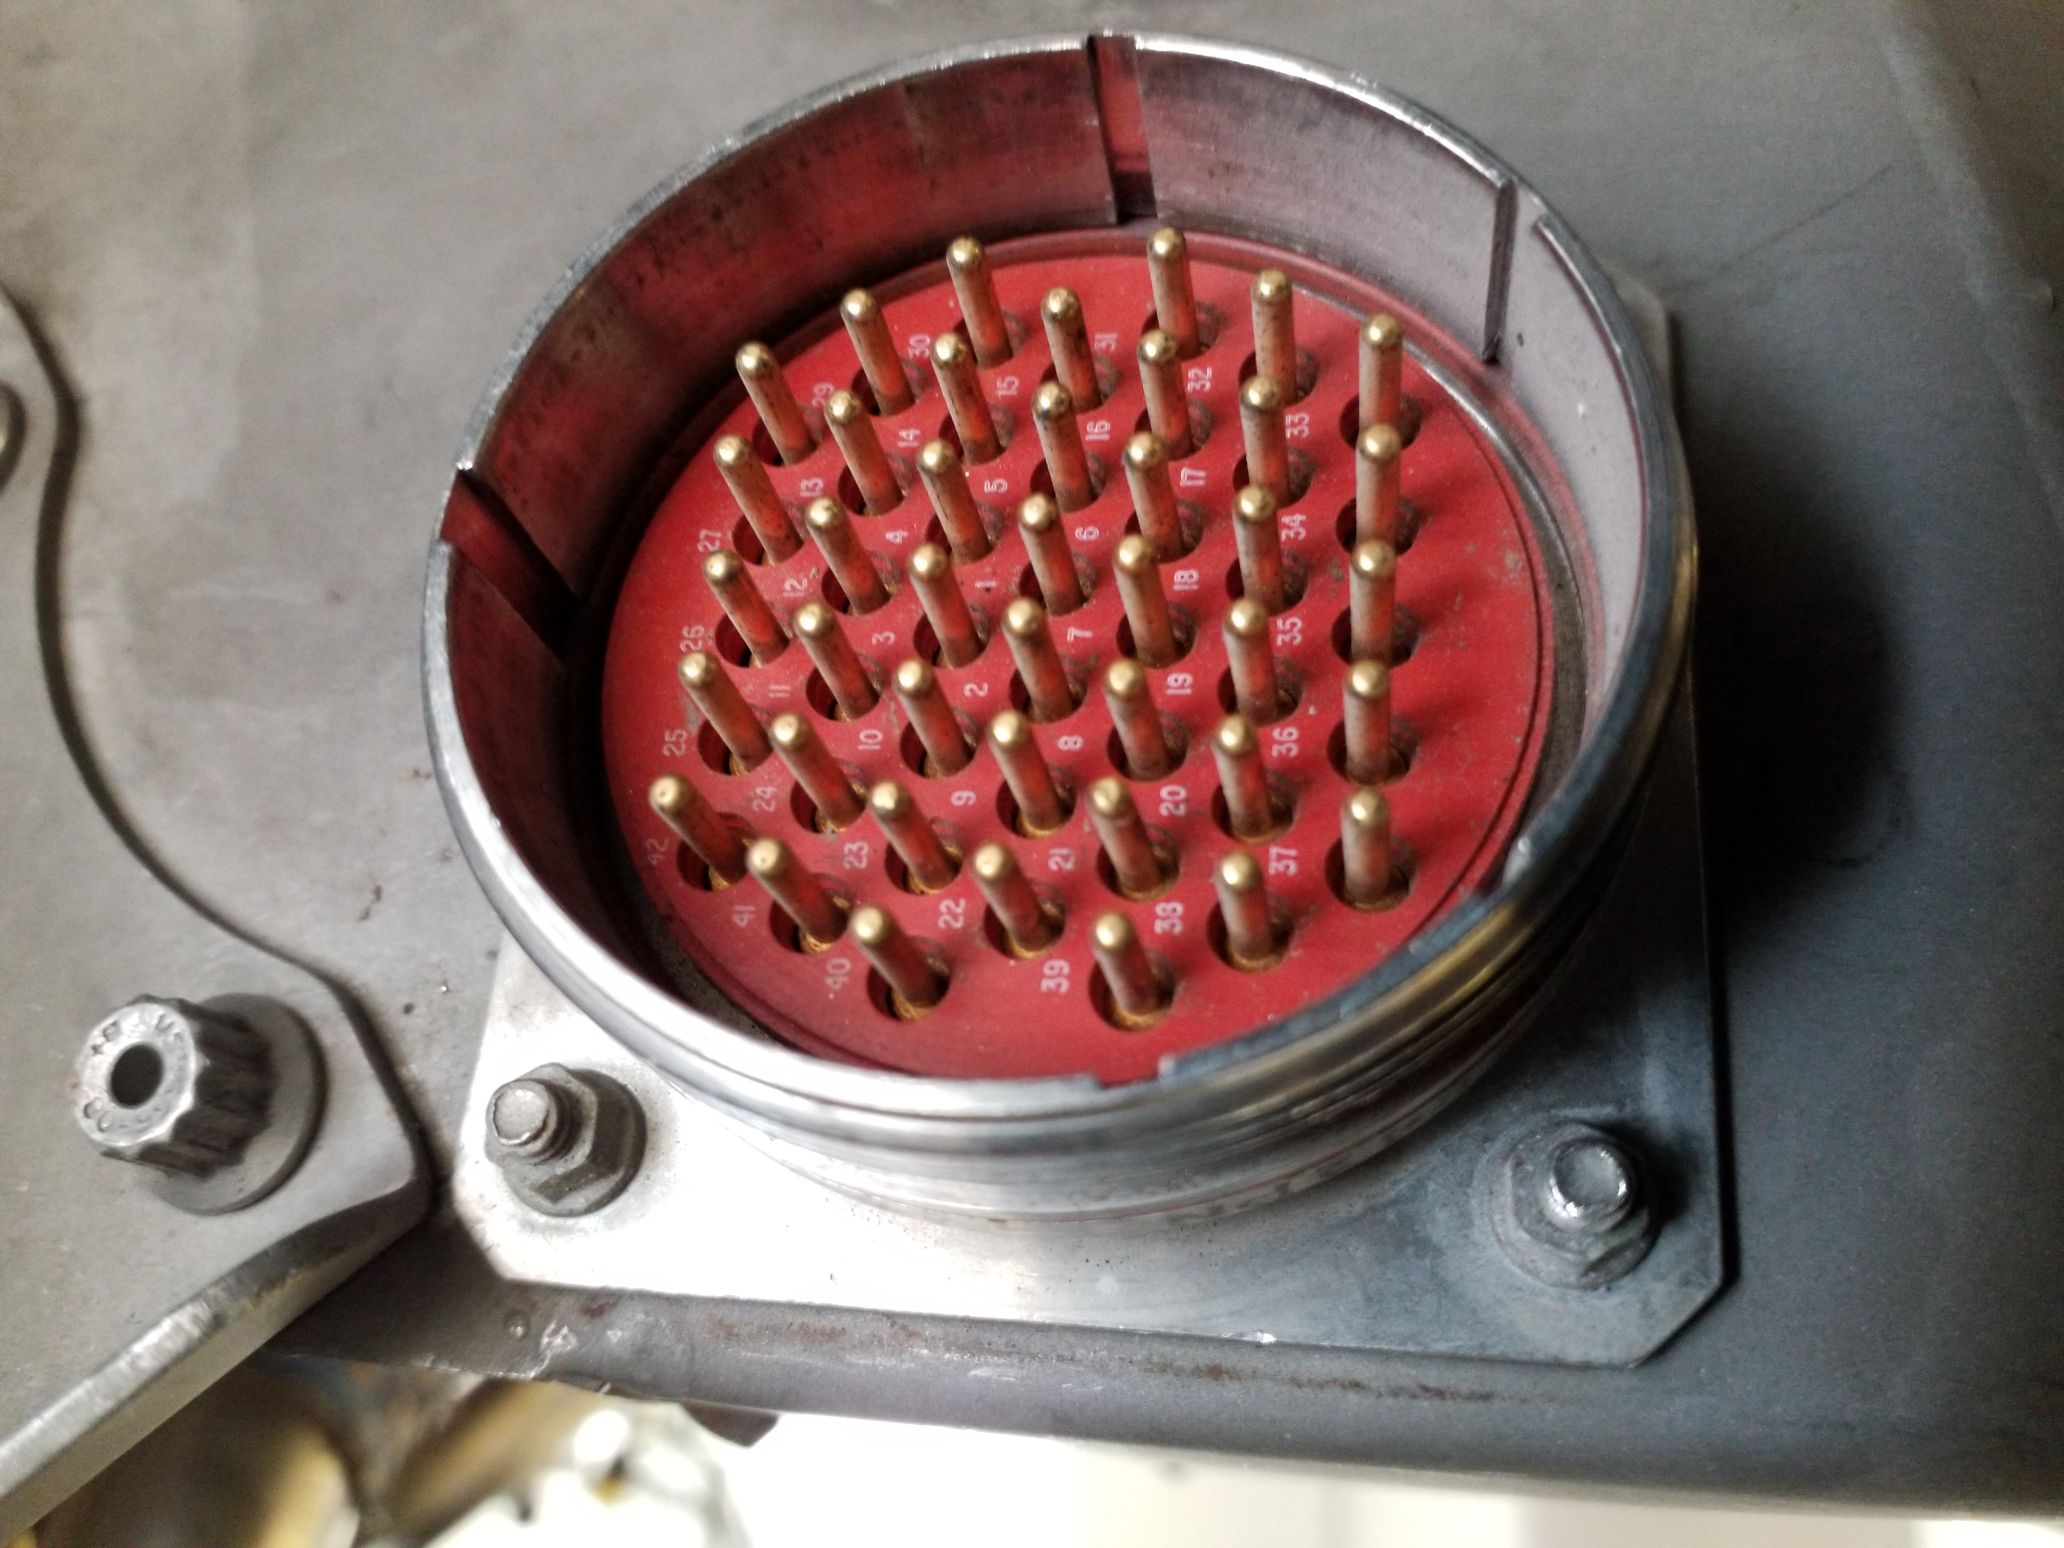outlet: (419, 23, 1702, 1137)
